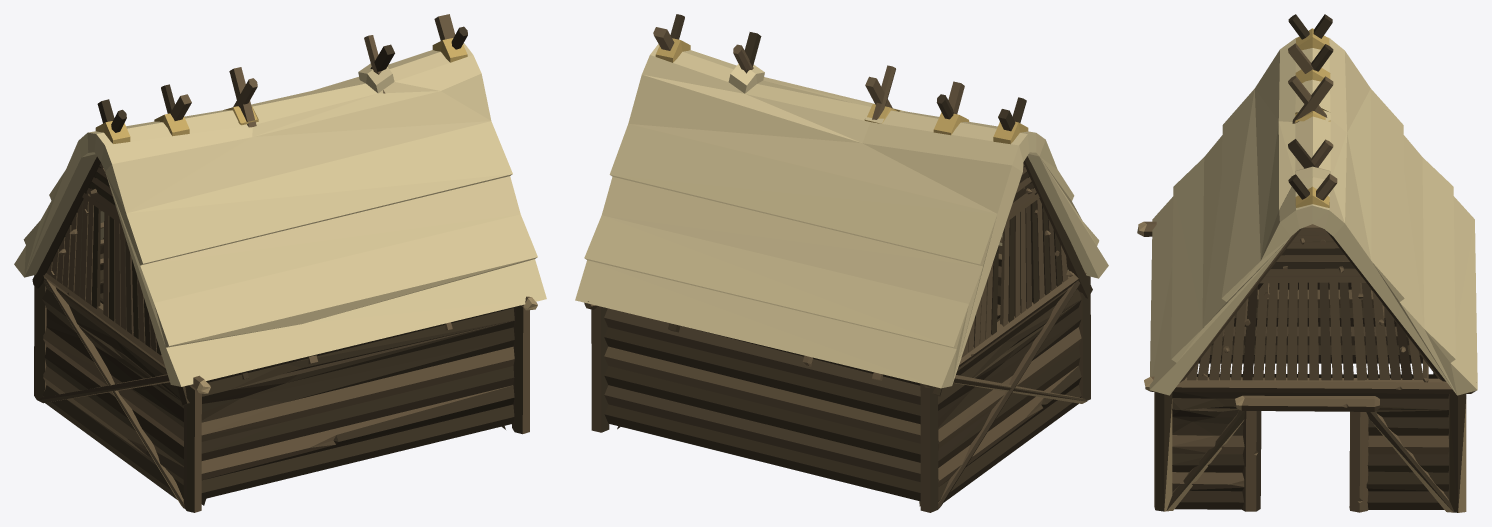
File: EA03_Village_OutBuilding_Cubby_01d.glb
The picture shows the model from 3 angles, left to right: view 1: azimuth 30°, elevation 25°; view 2: azimuth 150°, elevation 25°; view 3: azimuth 270°, elevation 25°; orthographic projection. The views are drawn at different scales.
Visible parts, largest first — view 1: EA03_Village_OutBuilding_Cubby_01d; view 2: EA03_Village_OutBuilding_Cubby_01d; view 3: EA03_Village_OutBuilding_Cubby_01d.
Part boxes in pixels (<box>): EA03_Village_OutBuilding_Cubby_01d: <box>14,14,546,512</box>; EA03_Village_OutBuilding_Cubby_01d: <box>575,14,1108,512</box>; EA03_Village_OutBuilding_Cubby_01d: <box>1137,14,1477,512</box>.
Bounding box in the file's own units: 8.98 × 8.09 × 7.35.
1 material, 1 textured.
